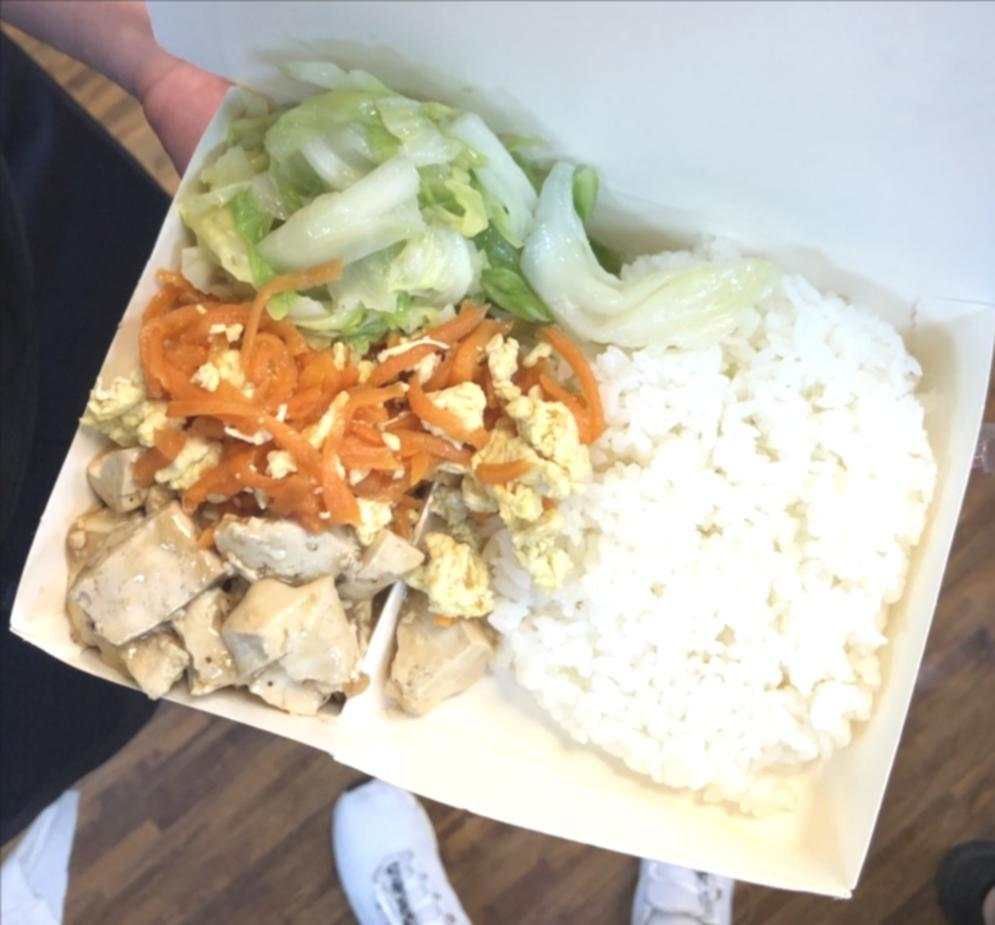box: (0, 192, 981, 907)
side dish: (181, 54, 770, 336), (113, 282, 603, 610), (58, 505, 492, 718)
white rice: (479, 233, 954, 806)
